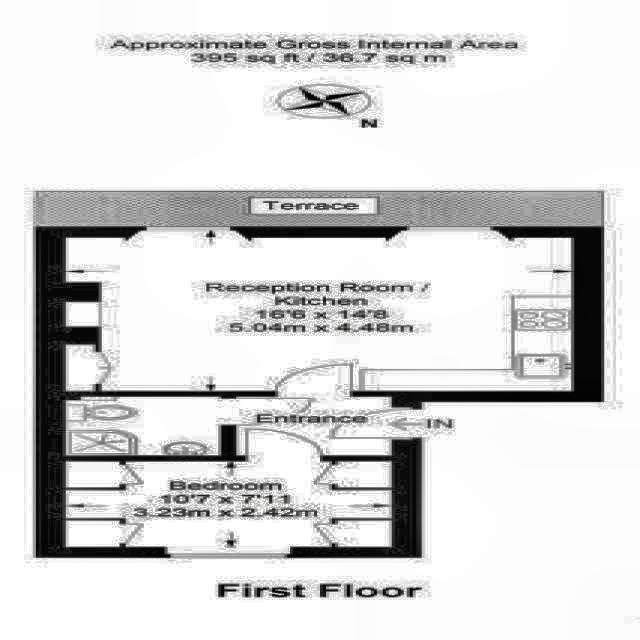room: (64, 238, 572, 391), (67, 461, 392, 546), (64, 397, 221, 456), (237, 397, 392, 456)
